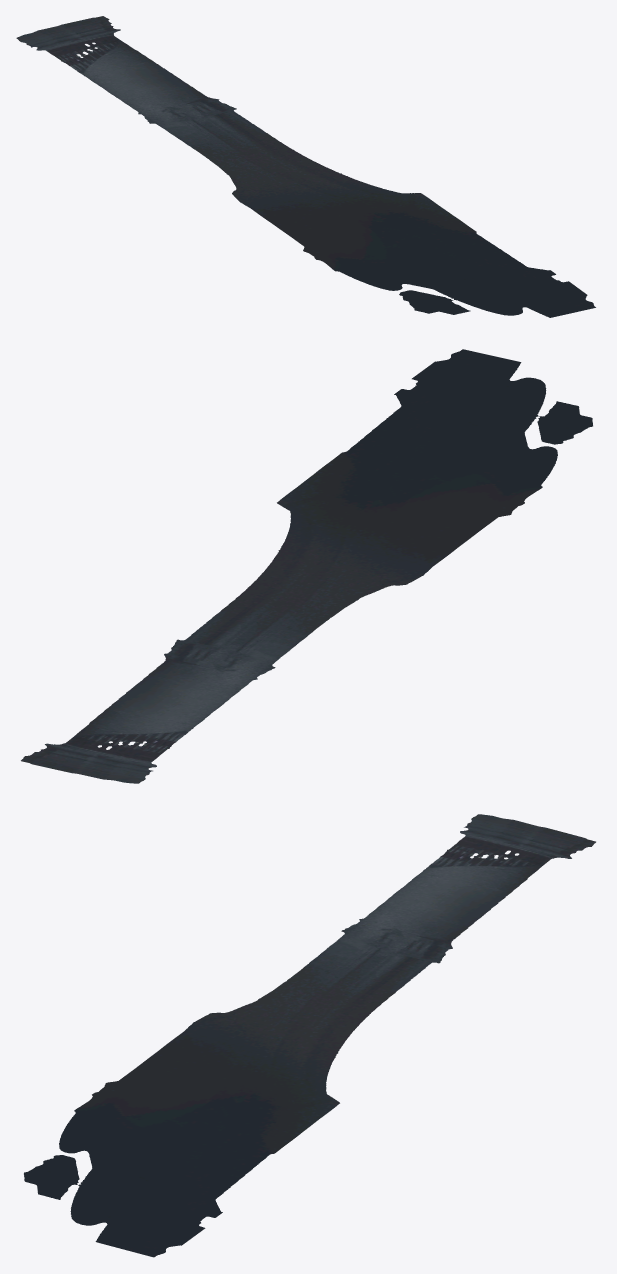
File: peristele_right.fbx
3 renders of one model, top to bottom at view 1: azimuth 30°, elevation 25°; view 2: azimuth 150°, elevation 25°; view 3: azimuth 330°, elevation 25°, orthographic. The views are drawn at different scales.
Parts seen in each view (by area): view 1: mesh_224_309.nr; view 2: mesh_224_309.nr; view 3: mesh_224_309.nr.
Boxes of the visible parts, x1,y1,x2,y2 form: mesh_224_309.nr: (16,16,595,317); mesh_224_309.nr: (21,349,592,783); mesh_224_309.nr: (24,814,595,1257).
Bounding box in the file's own units: 3593 × 852 × 17.28.
